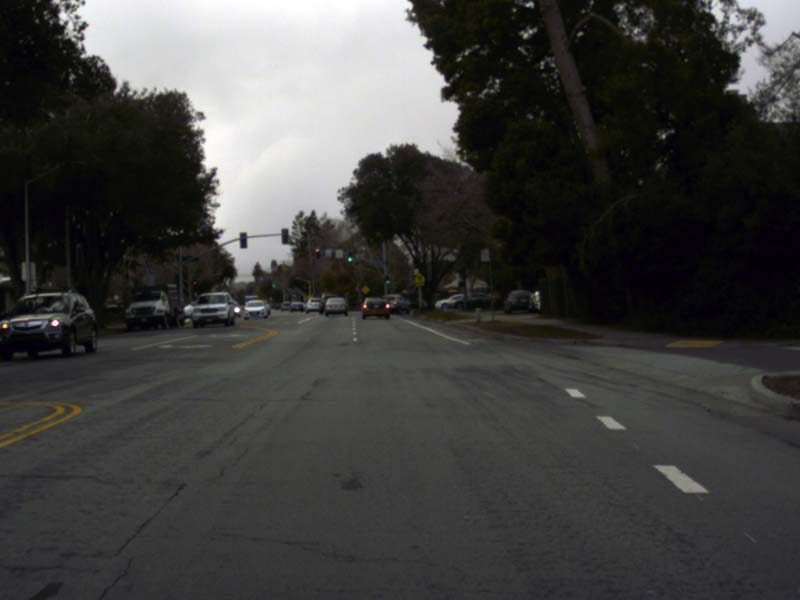Green: (347, 250, 351, 261), (385, 275, 389, 283), (272, 281, 274, 287)
Red: (192, 280, 198, 292), (315, 248, 319, 259)
